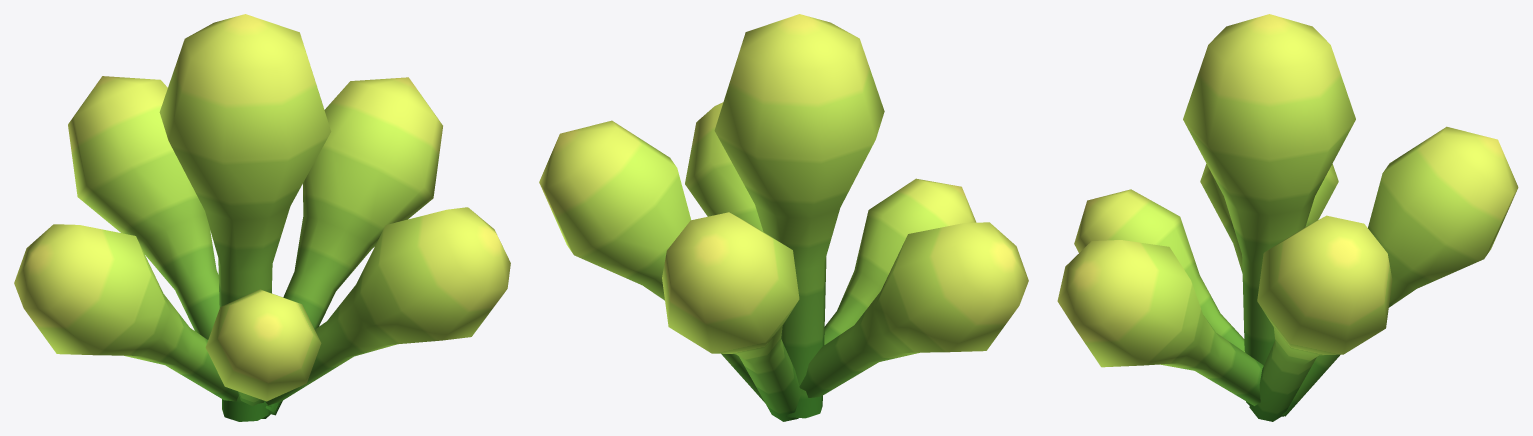
The model's file is plant_009.fbx.
3 views of the same model, side by side, from view 1: azimuth 30°, elevation 25°; view 2: azimuth 150°, elevation 25°; view 3: azimuth 270°, elevation 25° (orthographic). The views are drawn at different scales.
Visible parts, largest first — view 1: plant.009; view 2: plant.009; view 3: plant.009.
Boxes of the visible parts, x1=… form: plant.009: x1=14, y1=14, x2=510, y2=421; plant.009: x1=539, y1=14, x2=1028, y2=421; plant.009: x1=1057, y1=14, x2=1518, y2=421.
Bounding box in the file's own units: 21.33 × 18.74 × 19.71.
